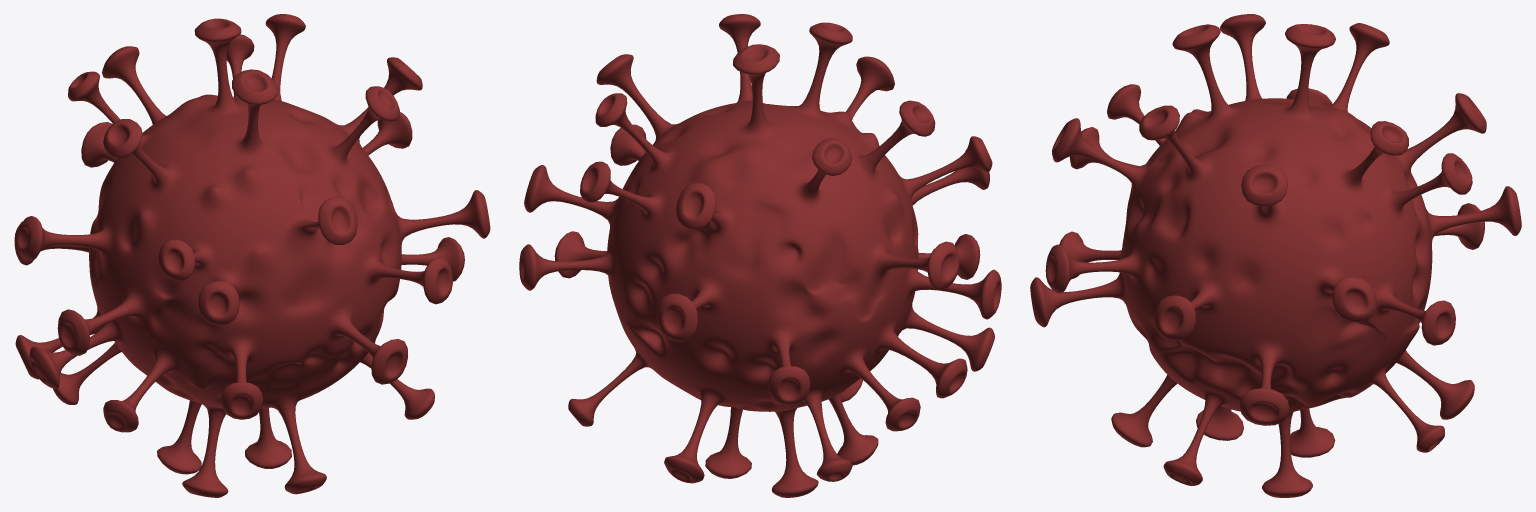
File: coronavirus.glb
3 renders of one model, left to right at view 1: azimuth 30°, elevation 25°; view 2: azimuth 150°, elevation 25°; view 3: azimuth 270°, elevation 25°, orthographic.
Parts seen in each view (by area): view 1: pCube1; view 2: pCube1; view 3: pCube1.
Boxes of the visible parts, x1=… form: pCube1: x1=14, y1=14, x2=490, y2=497; pCube1: x1=519, y1=14, x2=1001, y2=497; pCube1: x1=1030, y1=14, x2=1521, y2=497.
Bounding box in the file's own units: 16.97 × 17.19 × 17.1.
